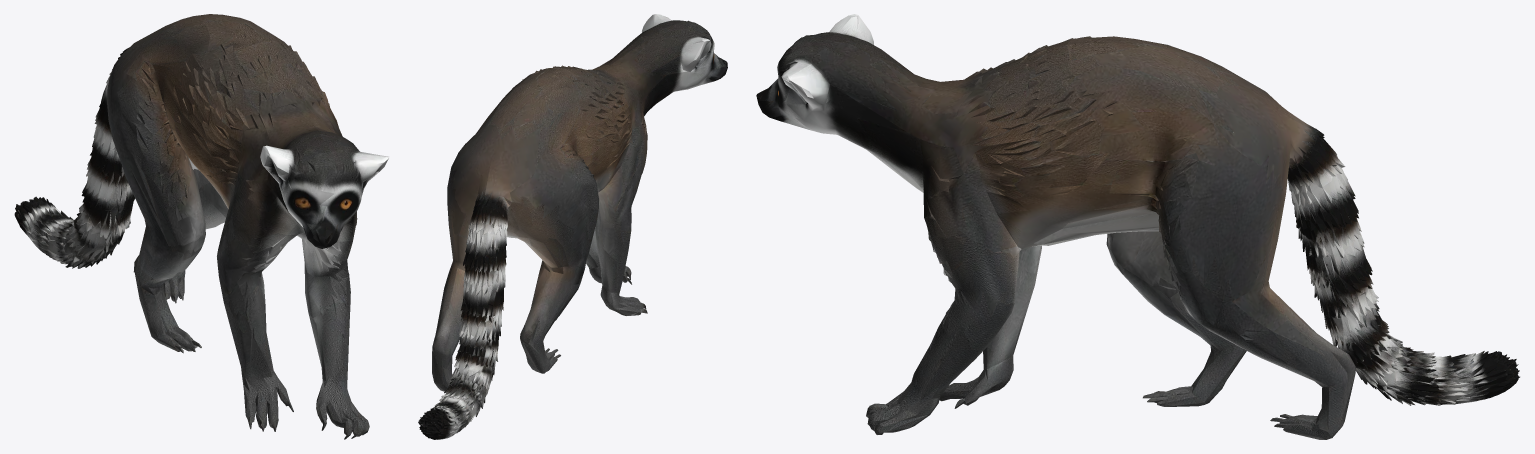
The model's file is animal_ring_tailed_lemur.glb.
3 renders of one model, left to right at view 1: azimuth 30°, elevation 25°; view 2: azimuth 150°, elevation 25°; view 3: azimuth 270°, elevation 25°, orthographic. The views are drawn at different scales.
Bounding box in the file's own units: 0.5077 × 1.04 × 1.9.
1 material, 1 textured.
